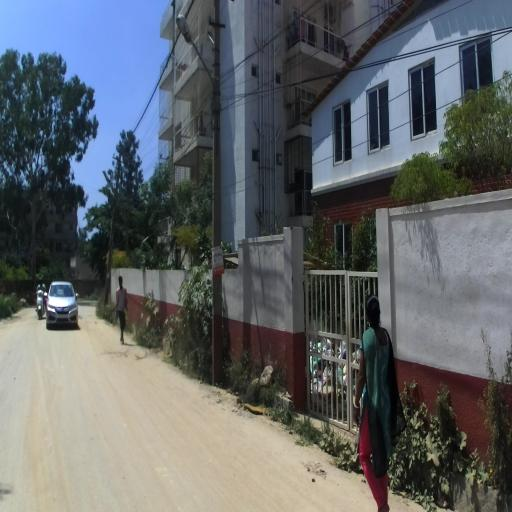street_light_0: (176, 14, 221, 116), (102, 170, 116, 204)
